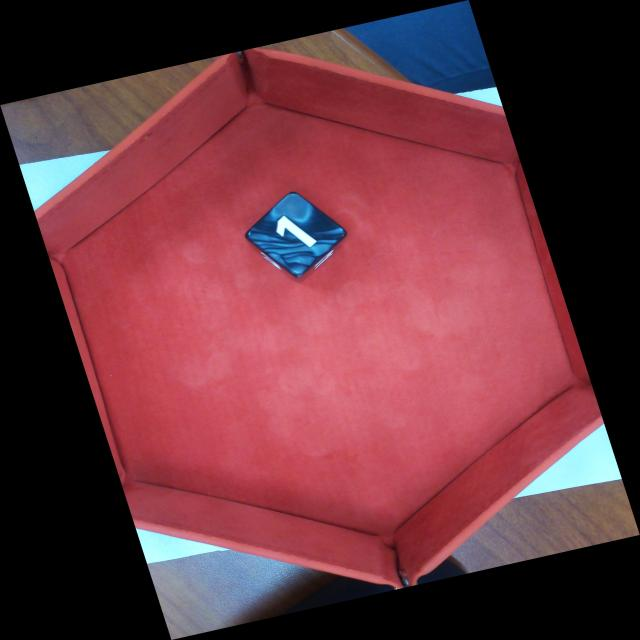dice: (242, 188, 351, 281)
